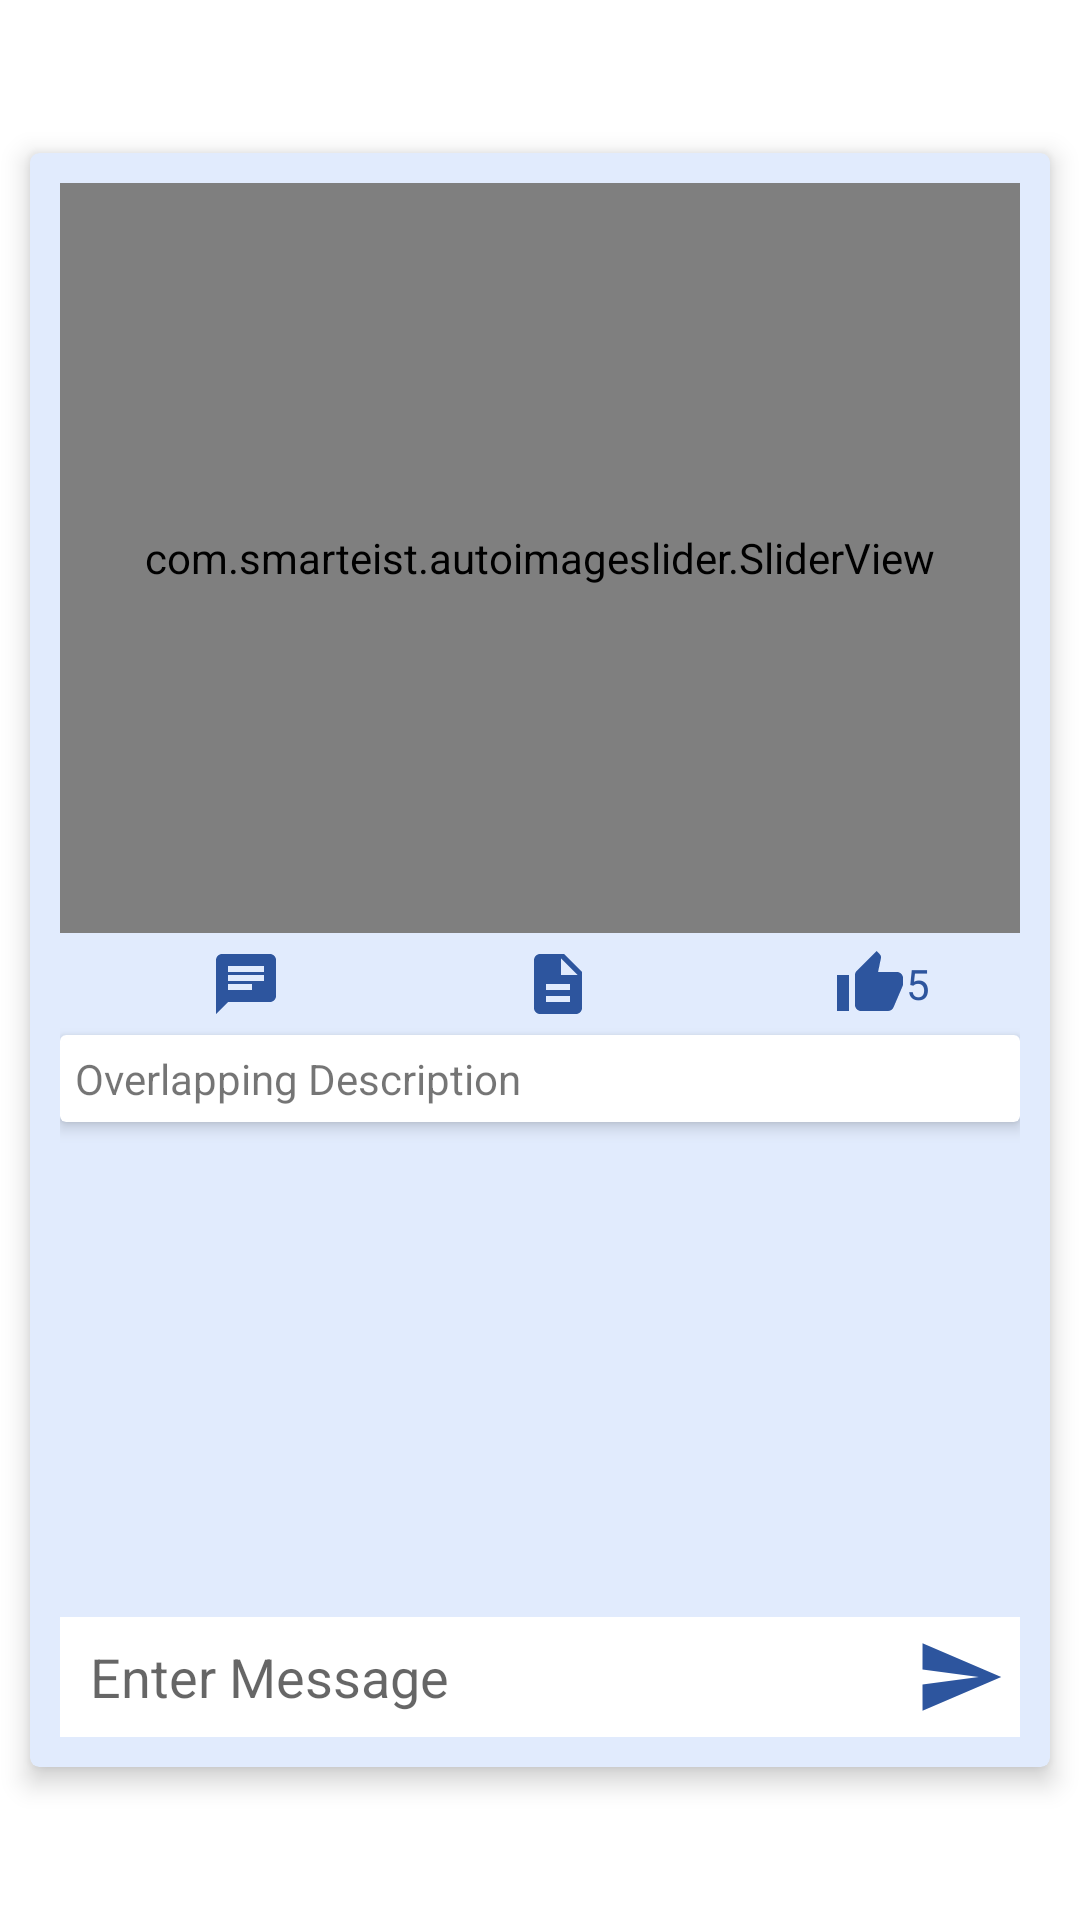

Named icons in this screenshot (1080×1920) and their centers, [x,y]:
send: [961,1677]
